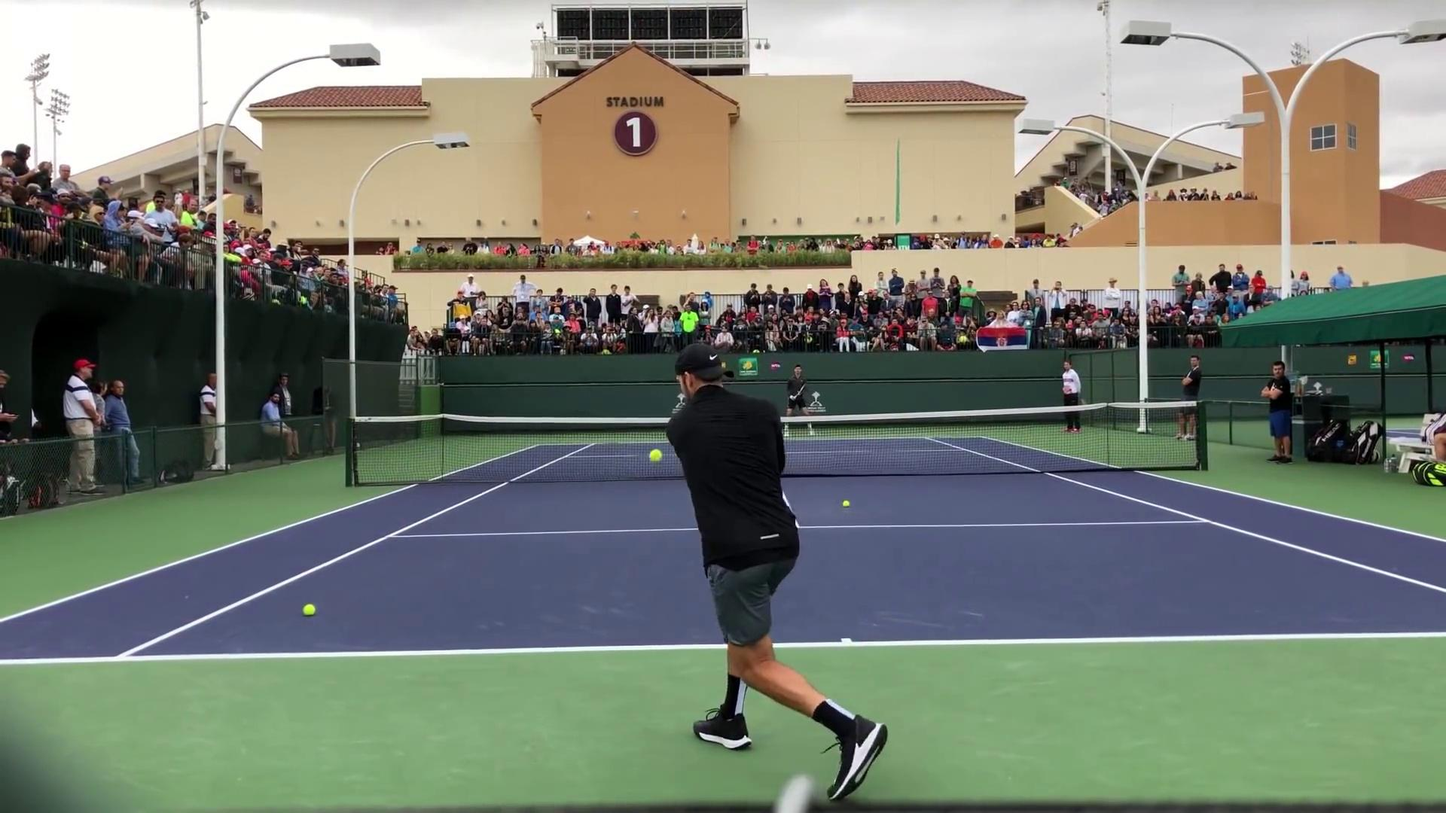ball: (303, 603, 316, 616), (649, 449, 662, 462), (842, 500, 850, 507)
